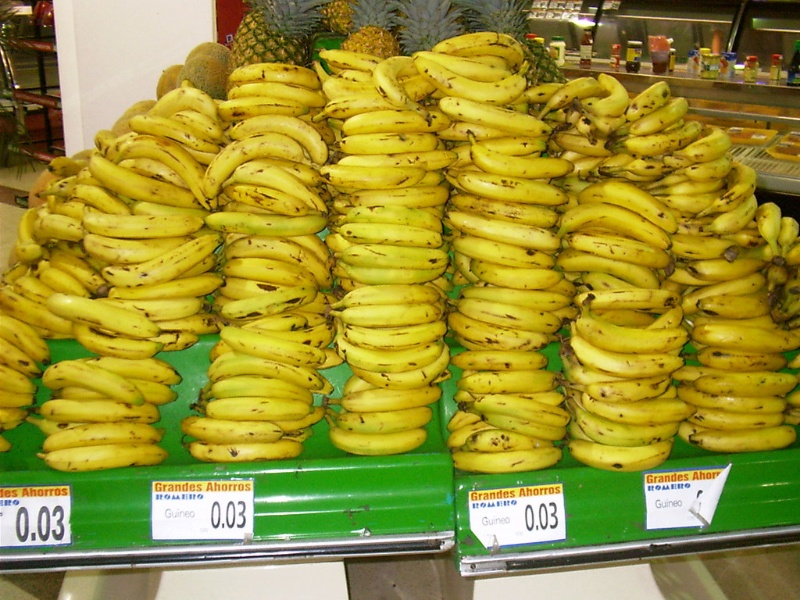banana: (549, 289, 691, 377), (41, 284, 169, 367), (545, 181, 681, 255), (323, 277, 452, 352), (105, 132, 217, 217), (406, 47, 536, 114), (555, 196, 674, 265)
